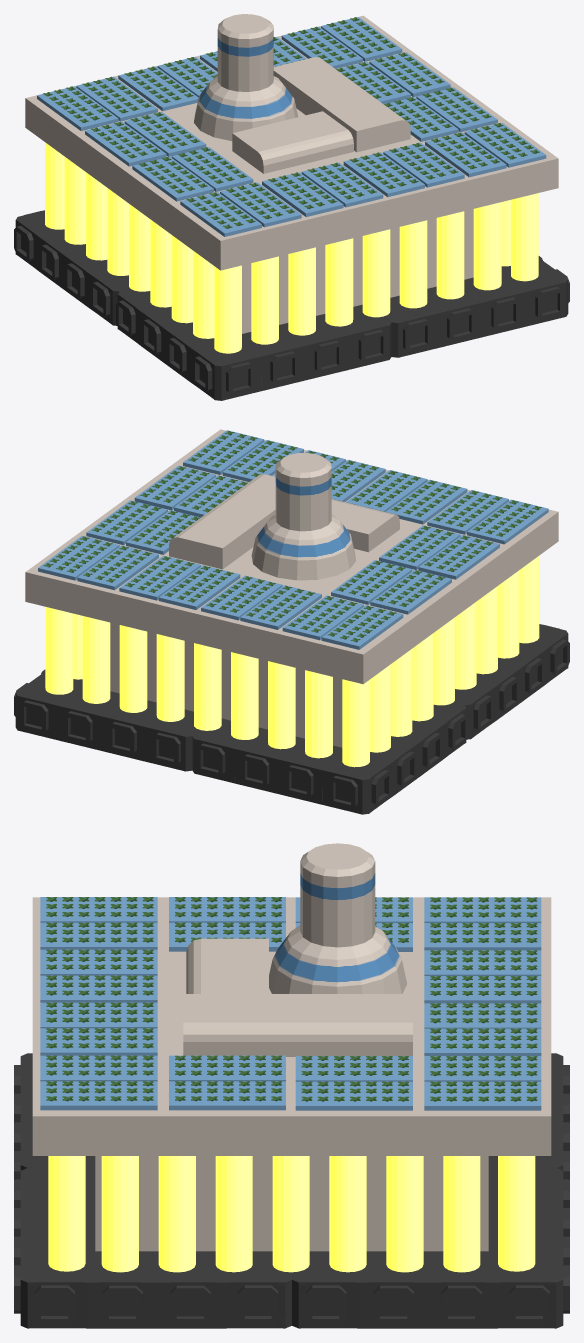
Rendered from aquaticFarm.fbx.
3 renders of one model, top to bottom at view 1: azimuth 30°, elevation 25°; view 2: azimuth 150°, elevation 25°; view 3: azimuth 270°, elevation 25°, orthographic. The views are drawn at different scales.
Visible parts, largest first — view 1: Light.002, Cube.012, Base8x8, Cube.007, Cylinder.003, Cube.006; view 2: Light.002, Cube.012, Base8x8, Cube.007, Cylinder.003, Cube.006; view 3: Cube.012, Cube.007, Base8x8, Light.002, Cylinder.003, Cube.006.
Boxes of the visible parts, <box> form: Light.002: <box>45,142,538,353</box>; Cube.012: <box>37,17,546,236</box>; Base8x8: <box>14,210,569,400</box>; Cube.007: <box>25,15,558,333</box>; Cylinder.003: <box>194,14,410,173</box>; Cube.006: <box>43,17,539,228</box>; Light.002: <box>45,556,539,767</box>; Cube.012: <box>38,430,548,649</box>; Base8x8: <box>14,624,569,814</box>; Cube.007: <box>25,429,558,747</box>; Cylinder.003: <box>169,453,399,580</box>; Cube.006: <box>43,430,541,642</box>; Cube.012: <box>40,897,541,1110</box>; Cube.007: <box>32,897,551,1251</box>; Base8x8: <box>14,1053,569,1328</box>; Light.002: <box>48,1156,535,1272</box>; Cylinder.003: <box>183,843,412,1056</box>; Cube.006: <box>46,897,537,1101</box>.
Size of the model in its own units: 820 by 551 by 820.
Materials: 3 (1 with a texture image).
